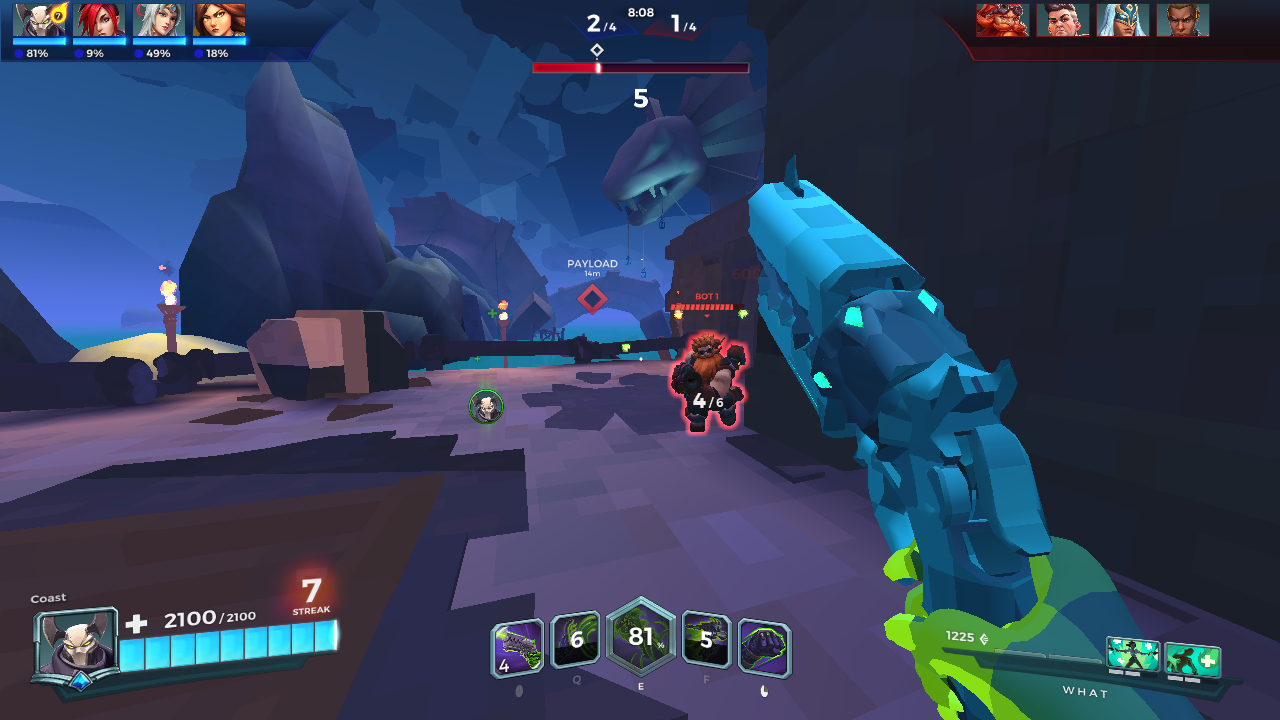model: (665, 326, 749, 437)
